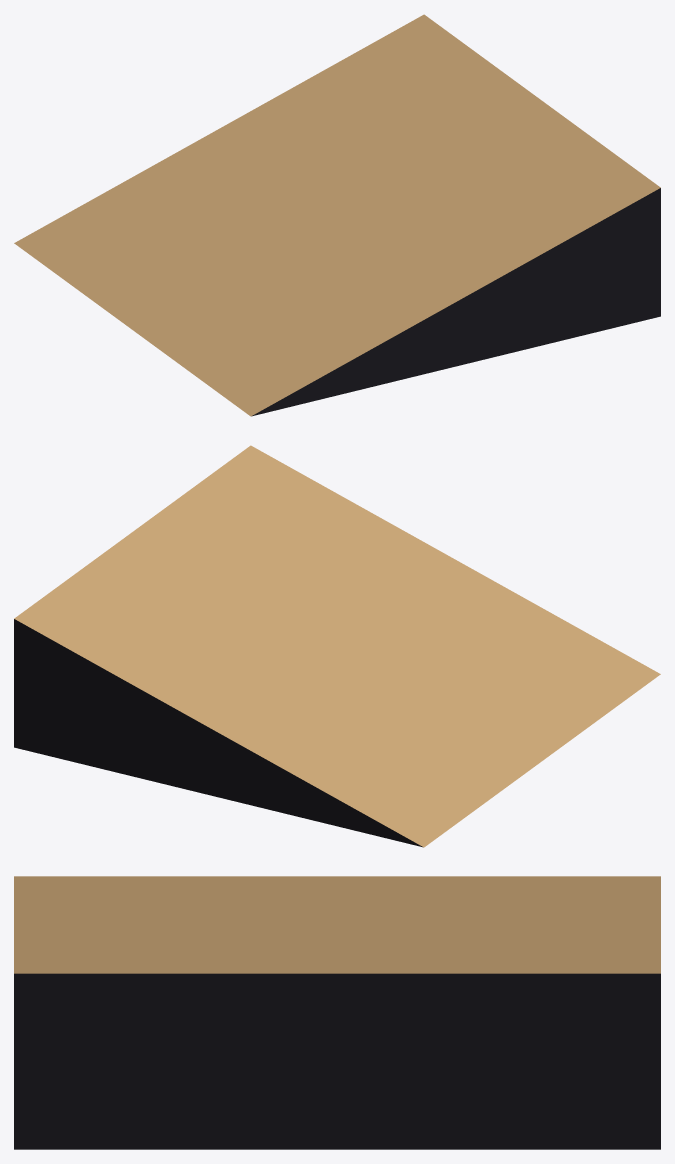
Rendered from Ramp_3.fbx.
3 renders of one model, top to bottom at view 1: azimuth 30°, elevation 25°; view 2: azimuth 150°, elevation 25°; view 3: azimuth 270°, elevation 25°, orthographic. The views are drawn at different scales.
Visible parts, largest first — view 1: Ramp_3; view 2: Ramp_3; view 3: Ramp_3.
Boxes of the visible parts, x1,y1,x2,y2 form: Ramp_3: [14, 14, 660, 416]; Ramp_3: [14, 445, 660, 847]; Ramp_3: [14, 876, 660, 1149].
Size of the model in its own units: 10 by 3 by 10.
